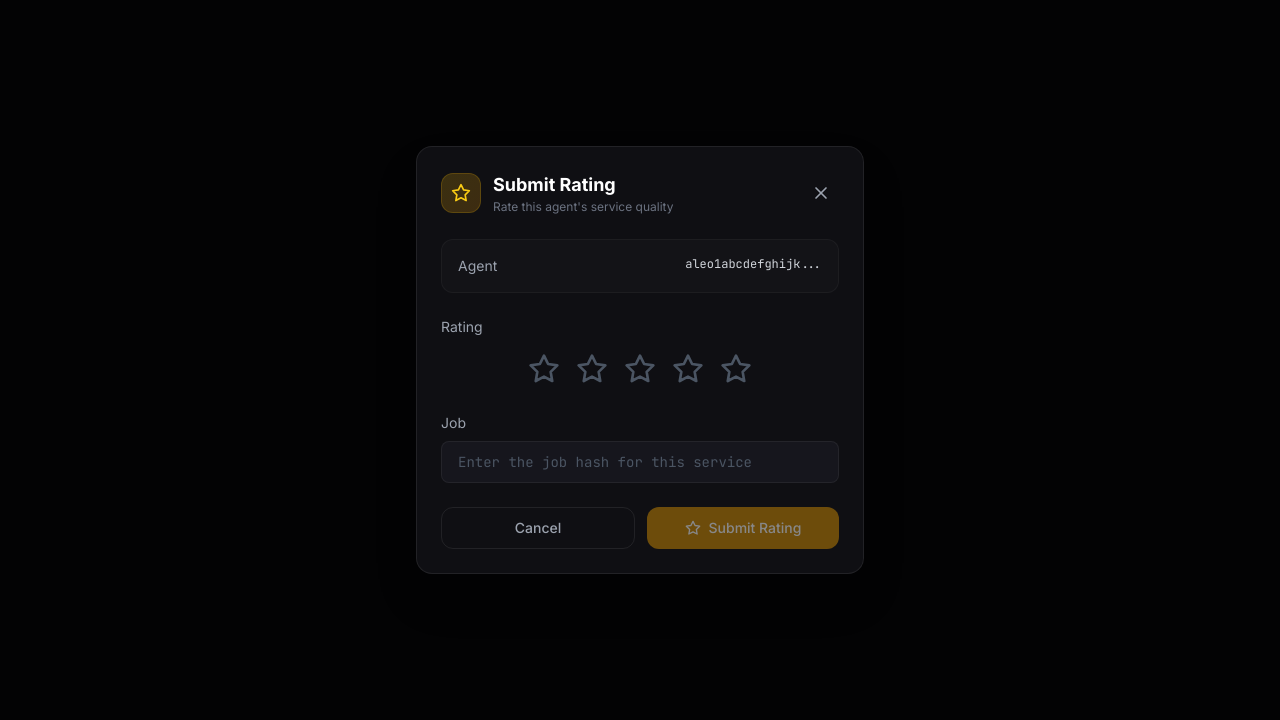
RatingForm › shows scaled rating text after star selection
This screenshot has width=1280, height=720.
Click the radio button named "3 stars". click: (640,369)
box: [620, 349, 660, 389]
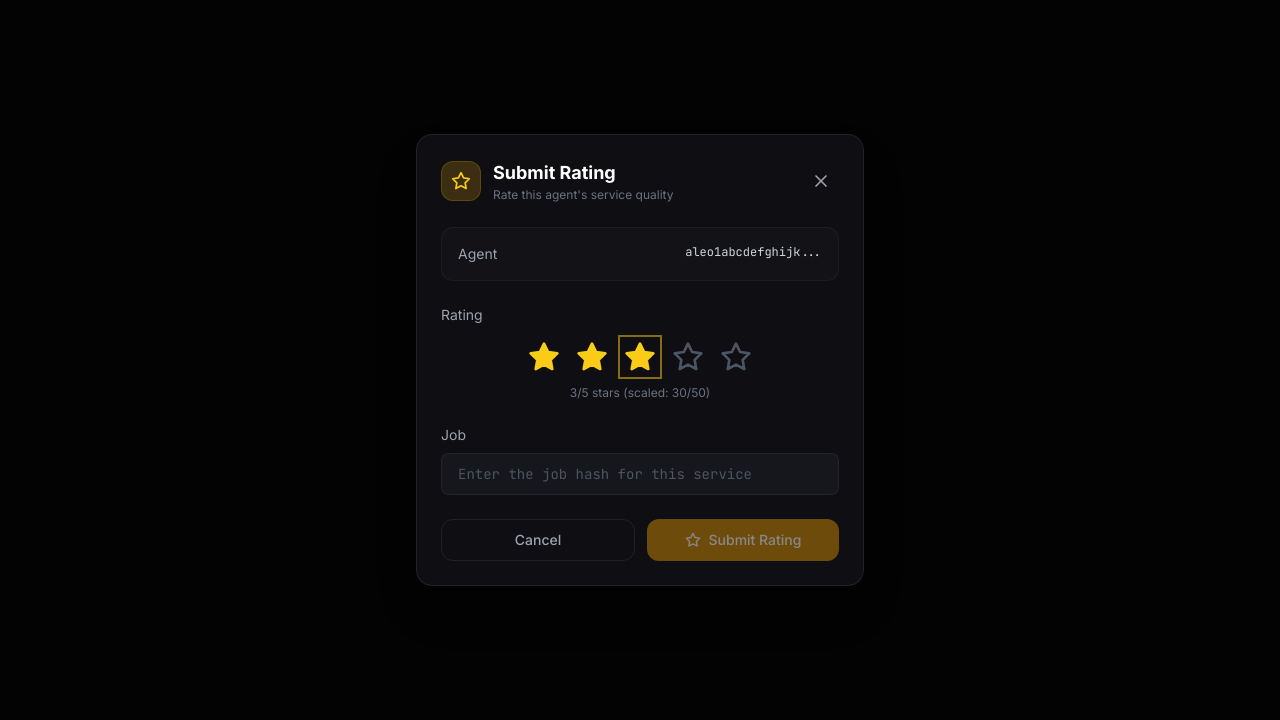
Expected: the text "3/5 stars (scaled: 30/50)" is shown, [570, 385, 710, 400]
